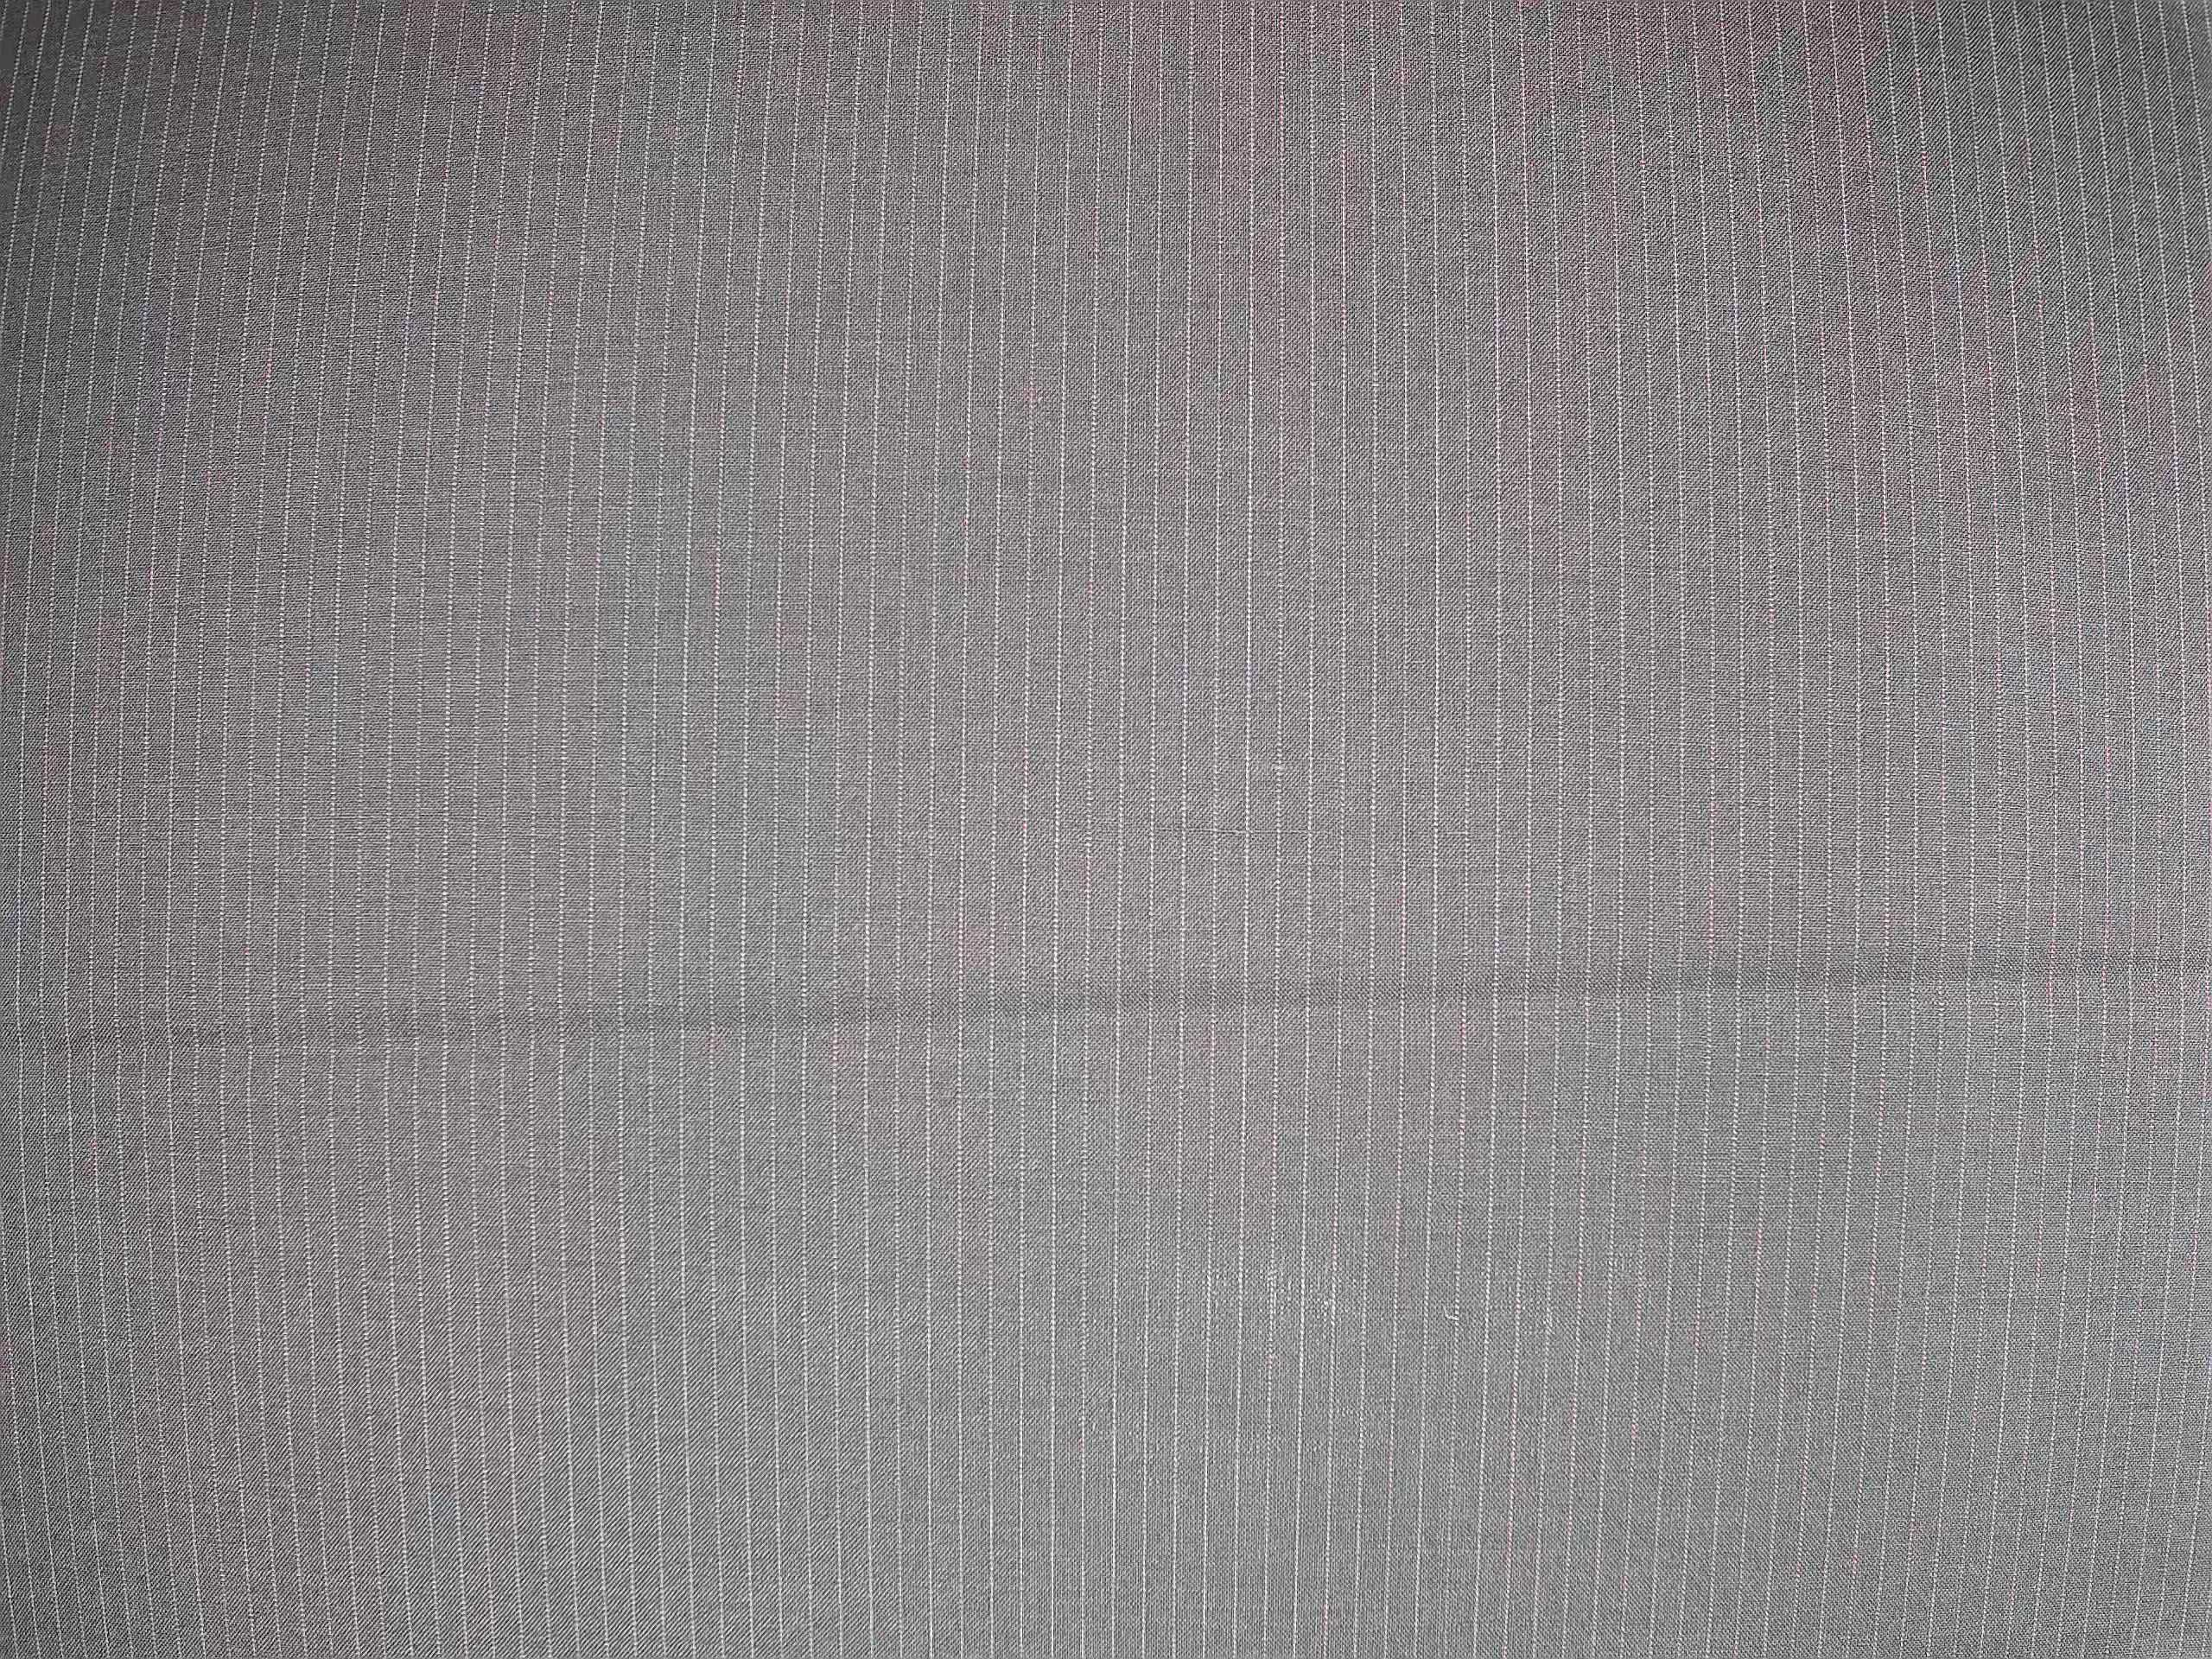others: (1136, 812, 1339, 849)
